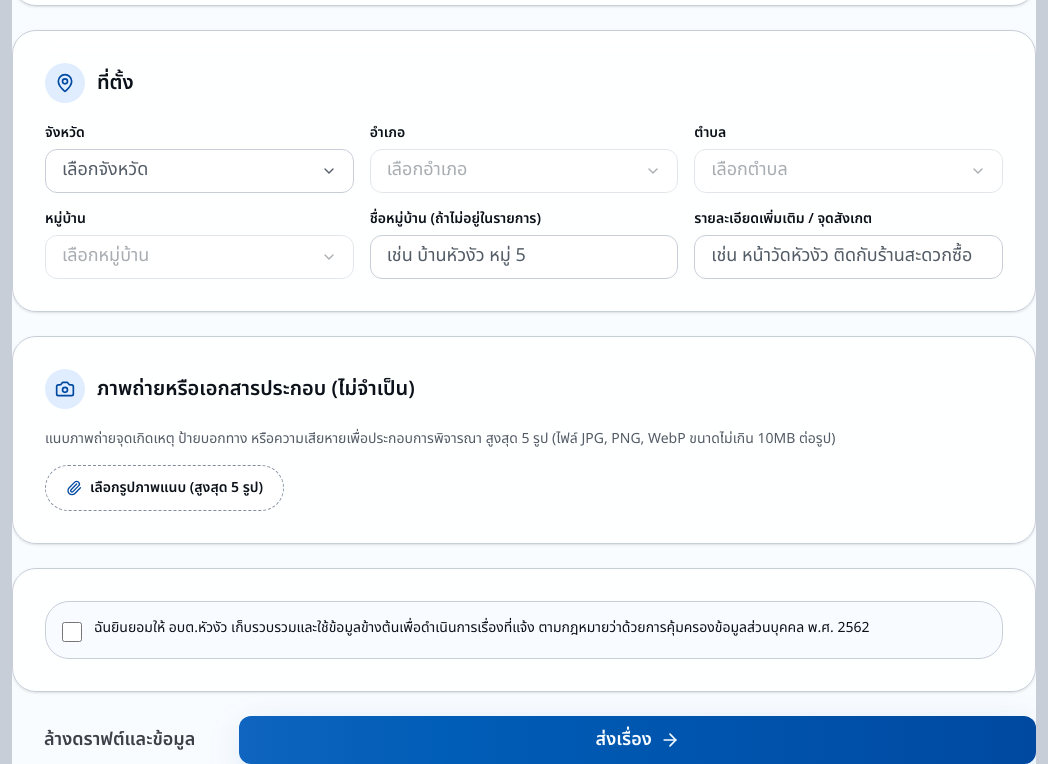
ฟอร์มแจ้งเรื่องสำหรับผู้สูงอายุ › ปุ่มล้างดราฟต์ล้าง storage และค่าฟอร์มโดยไม่บันทึกกลับ
This screenshot has width=1048, height=764.
(page scrolled)
Click the button "ล้างดราฟต์และข้อมูล" at (120, 740), box 12,716 -> 227,763
(page scrolled)
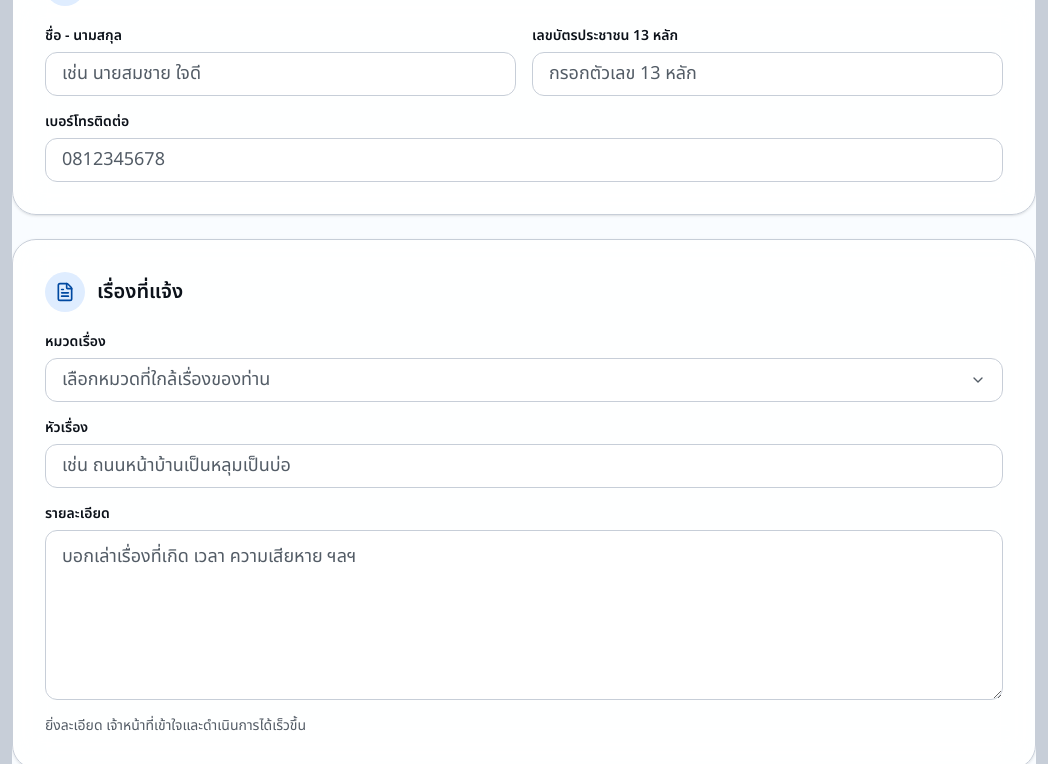
Now the dropdown named "หมวดเรื่อง" shows "เลือกหมวด", box 45,358 -> 1003,402
